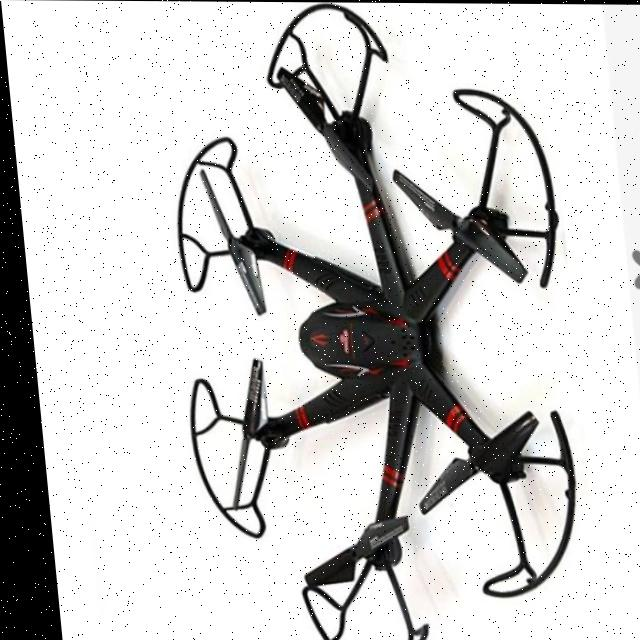drones: (134, 1, 602, 640)
